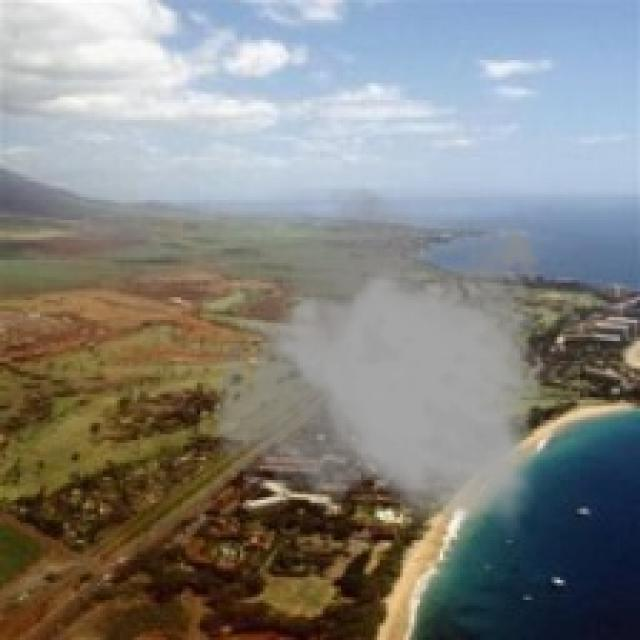smoke: (208, 189, 552, 537)
